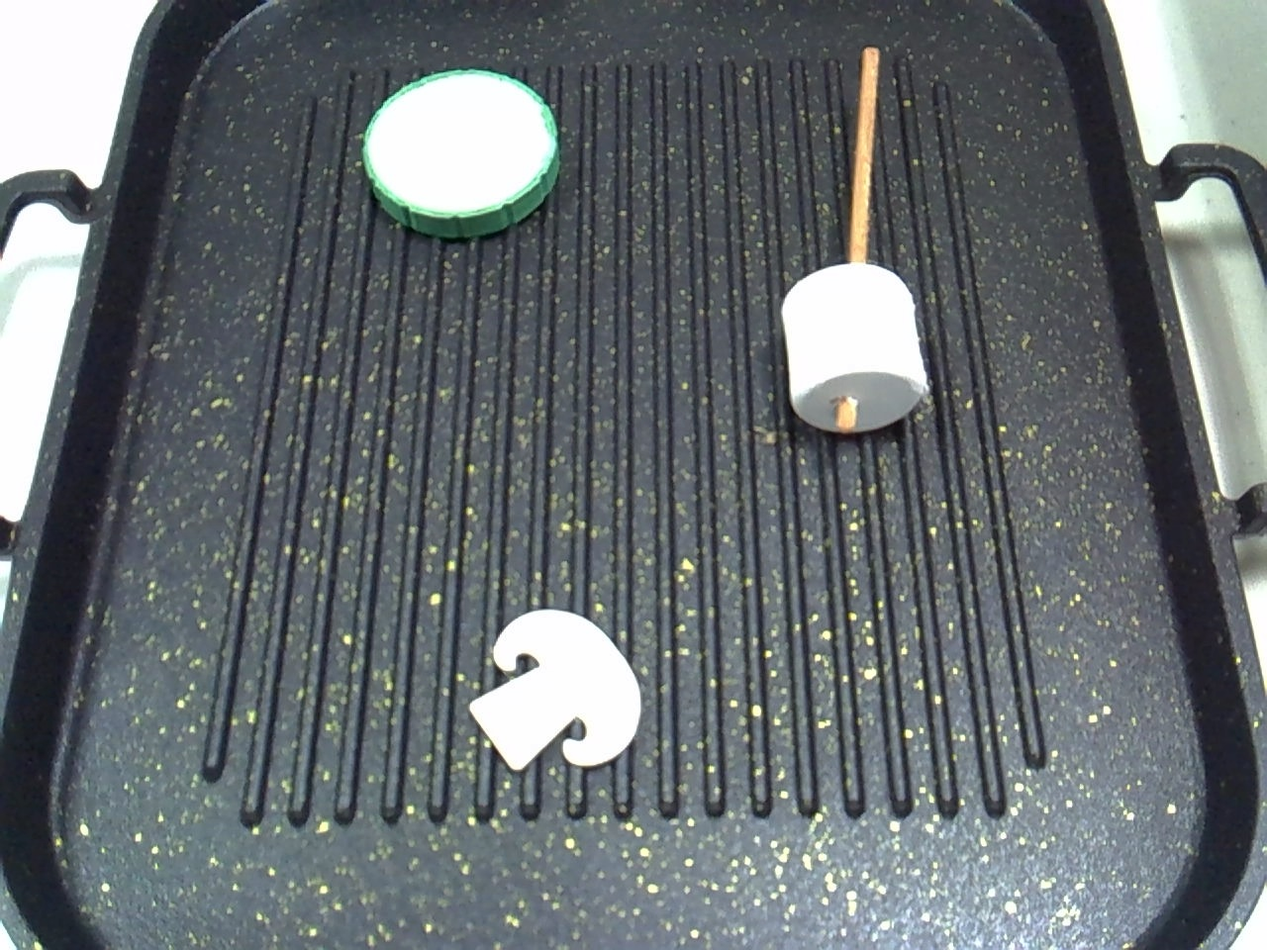MA1 0: (745, 24, 958, 455)
MU1 0: (452, 600, 649, 788)
Z1 0: (351, 52, 574, 252)
